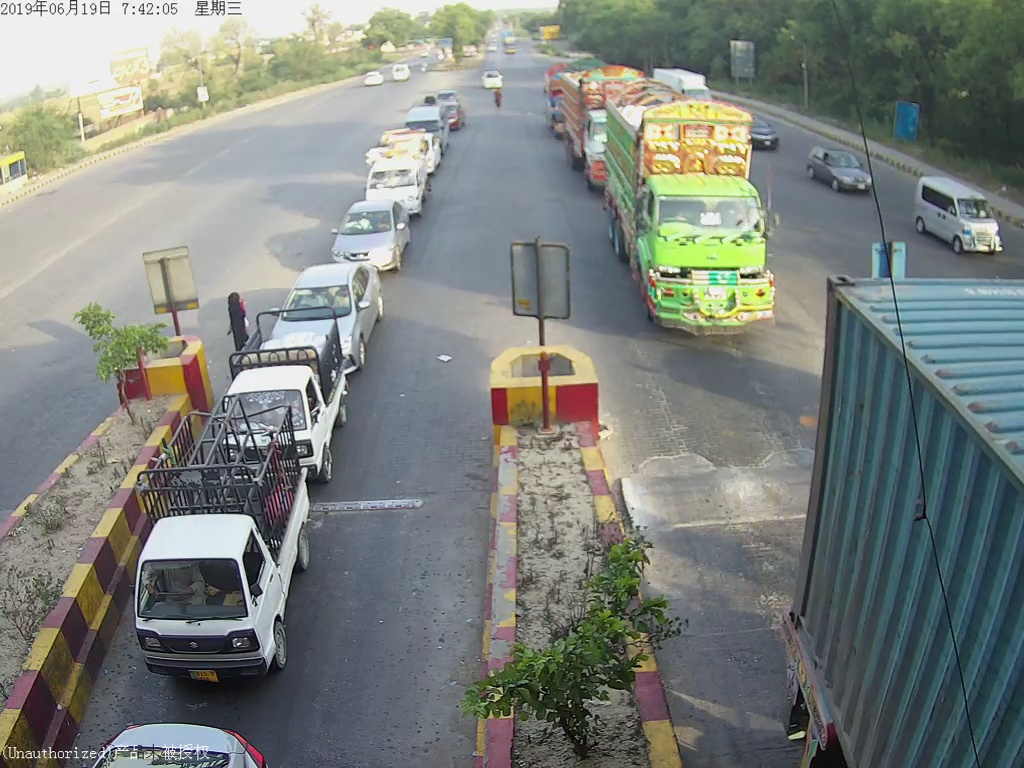Cat-1: (139, 410, 321, 686), (329, 203, 417, 271)
Cat-4: (606, 75, 784, 342)
